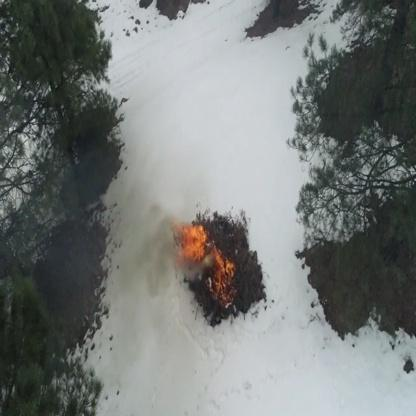Fire: (182, 227, 208, 258), (214, 252, 234, 275), (216, 276, 232, 302)
